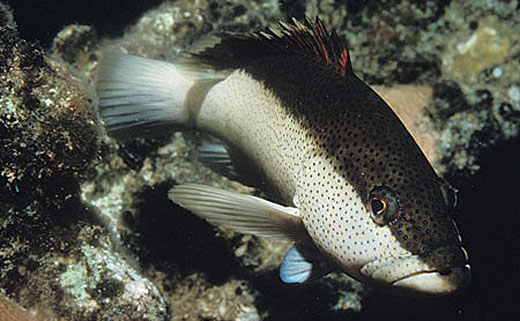Cephalopholis_fulvaw: (95, 21, 483, 299)
